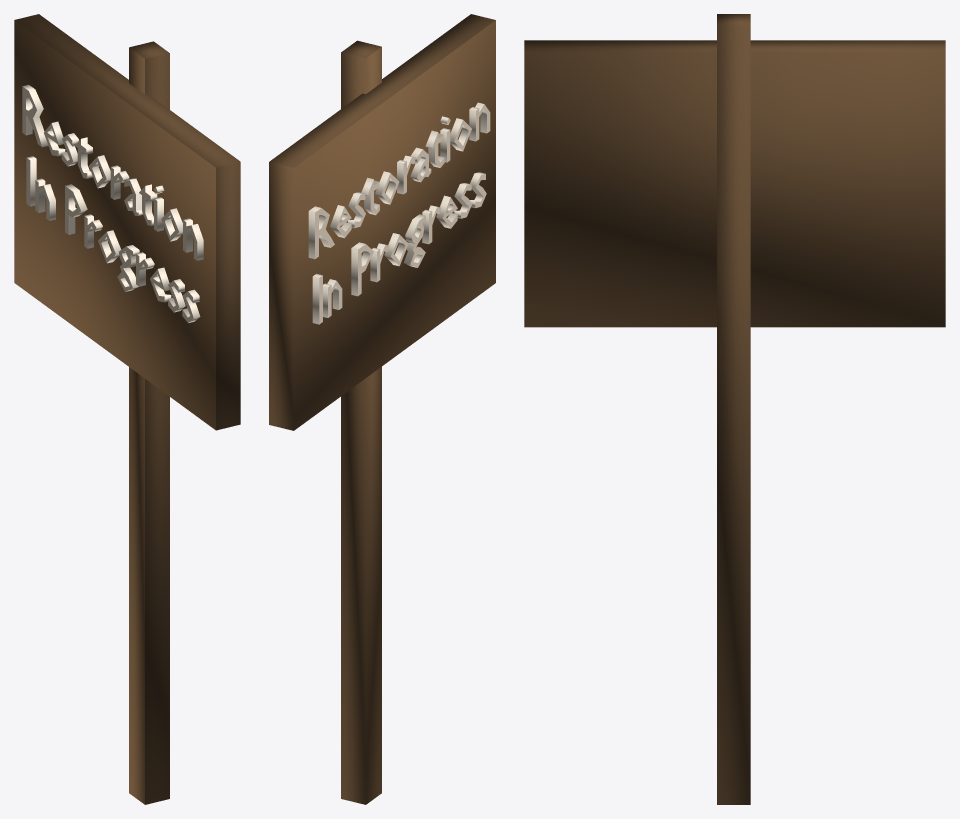
Rendered from Restoration_In_Progress_Sign (UPDATED).fbx.
3 views of the same model, side by side, from view 1: azimuth 30°, elevation 25°; view 2: azimuth 150°, elevation 25°; view 3: azimuth 270°, elevation 25° (orthographic). The views are drawn at different scales.
Visible parts, largest first — view 1: Text; view 2: Text; view 3: Text.
Part boxes in pixels (bbox=[...]): Text: bbox=[14, 14, 240, 804]; Text: bbox=[269, 14, 495, 804]; Text: bbox=[524, 14, 945, 804].
Size of the model in its own units: 23.44 by 317 by 155.
